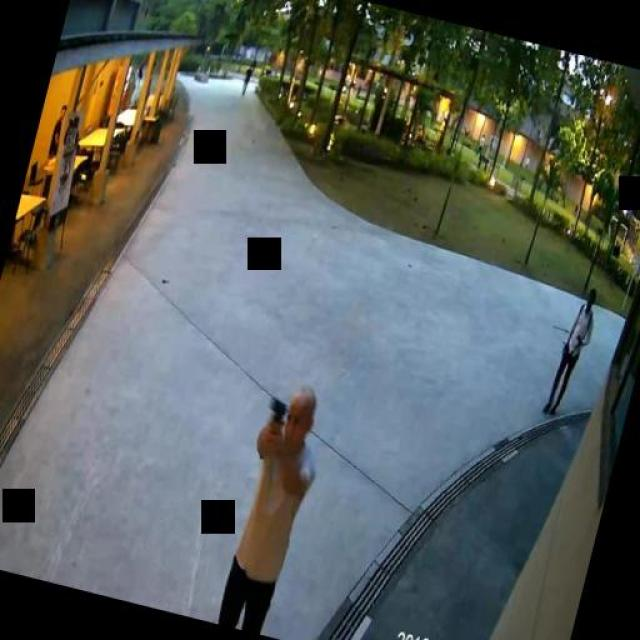gun: (258, 392, 288, 447)
